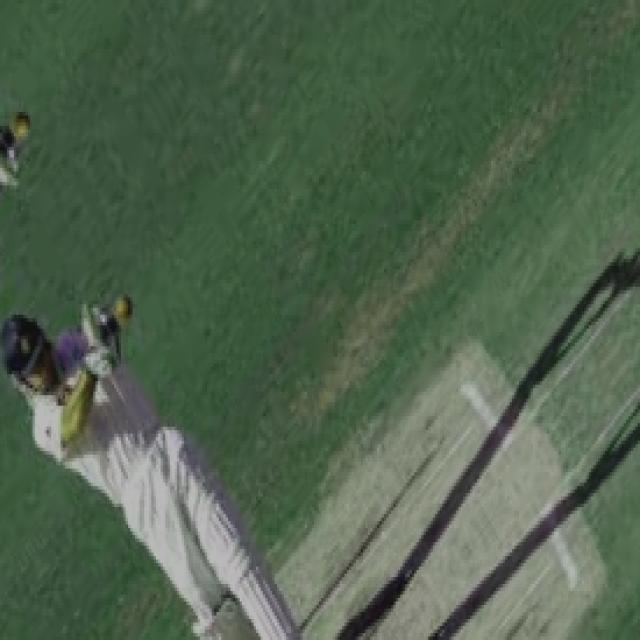toe: (126, 403, 167, 432)
